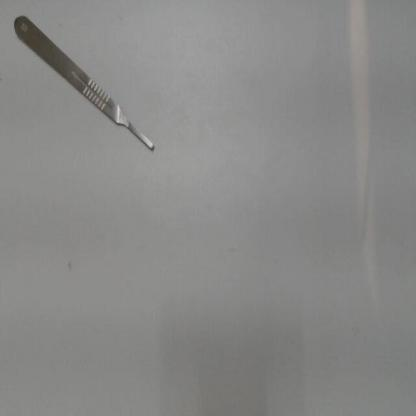No.4 BP Handle: (10, 6, 163, 159)
